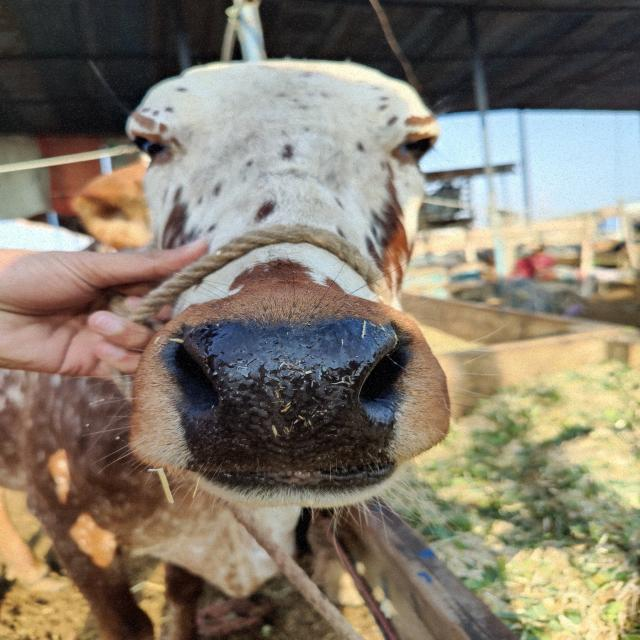muzzles: (158, 305, 417, 481)
